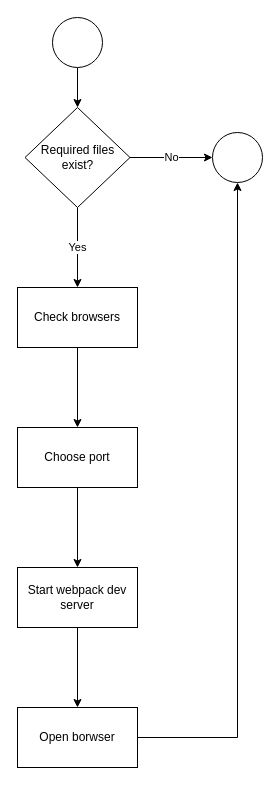
Some shapes in this 280 by 785 pixel diagram are drawn without their labels. Here are the shapes that lost their labels. From the top down, the centre of each, then its label:
the point at 77,42: Start
the point at 237,157: End
